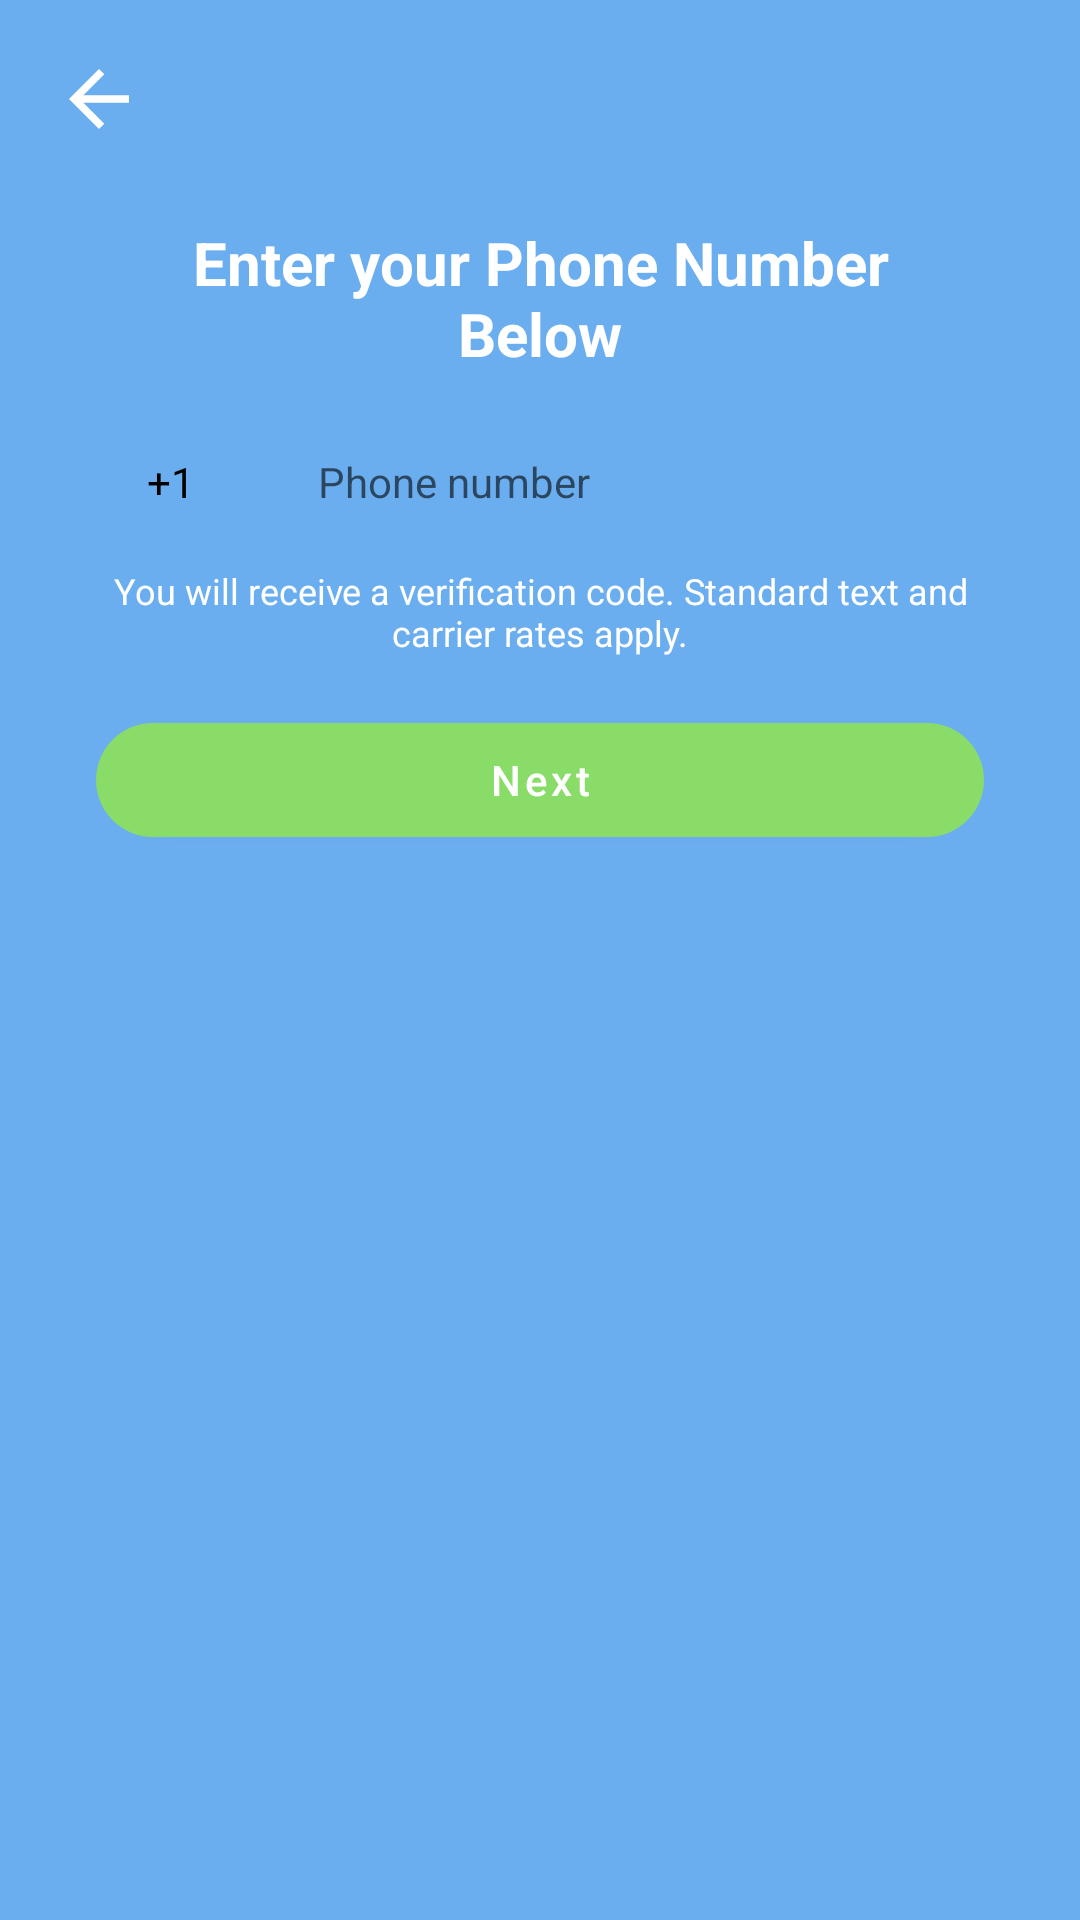

Named icons in this screenshot (1080 x 1920) and their bounding boxes, (x1, y1, x2, y2):
Back: (69, 69, 129, 129)
